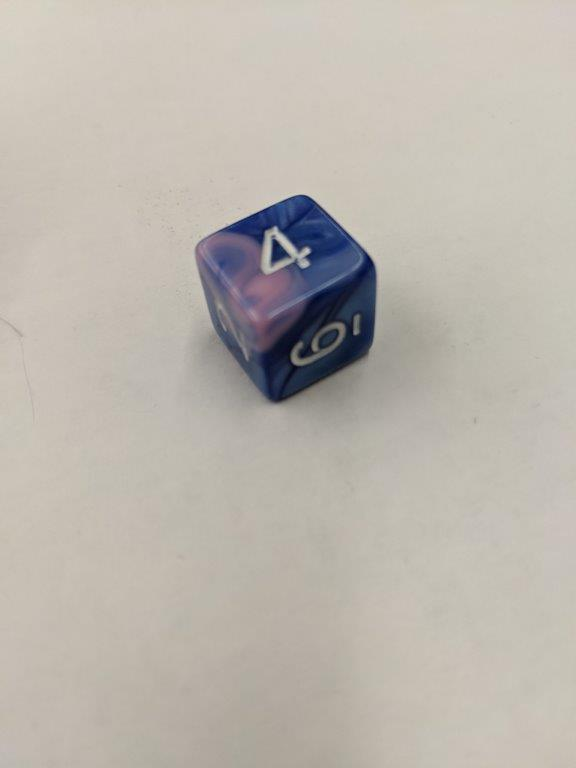d6-4: (193, 190, 376, 408)
